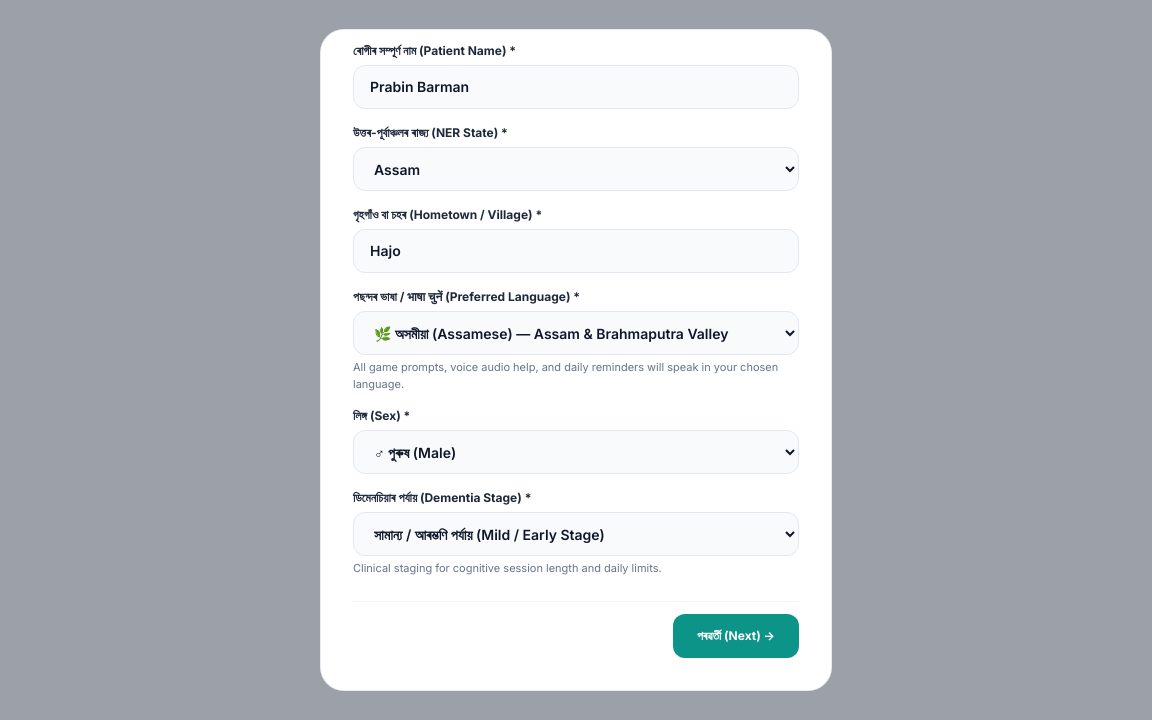
Test: Back Navigation & Visual Consistency Audit Tests › 2. PatientOnboardingModal Step 1 Back & Multi-Step Data Retention › Step 2 allows going back to Step 1 without losing entered patient data
(page scrolled)
Expected: the field labelled "ৰোগীৰ সম্পূৰ্ণ নাম (Patient Name) *" holds "Prabin Barman", [353,65,799,109]
// Go to Step 2
Step 1. Click the button "পৰৱৰ্তী (Next) →" → {"x": 736, "y": 636}, box [673,614,799,658]
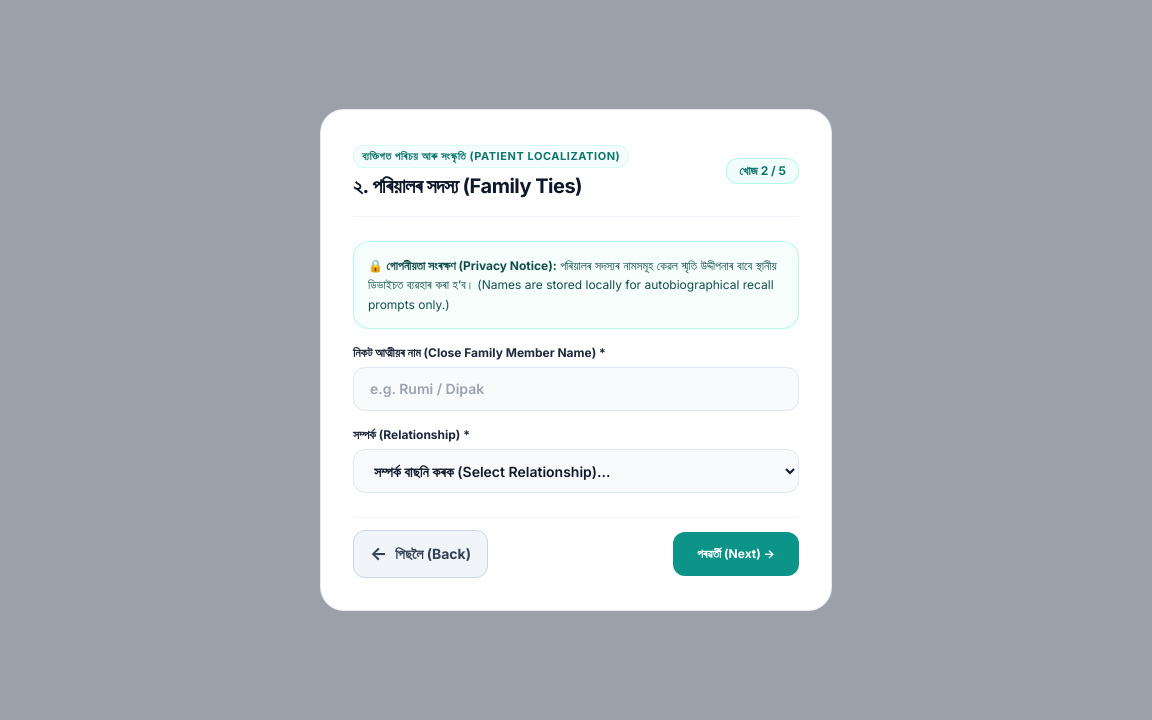
Expected: the heading "২. পৰিয়ালৰ সদস্য (Family Ties)" is shown, [353,174,582,198]
// Enter Step 2 family member
Step 2. Type "Junali Barman" into the field labelled "নিকট আত্মীয়ৰ নাম (Close Family Member Name) *" → {"x": 576, "y": 389}, box [353,367,799,411]
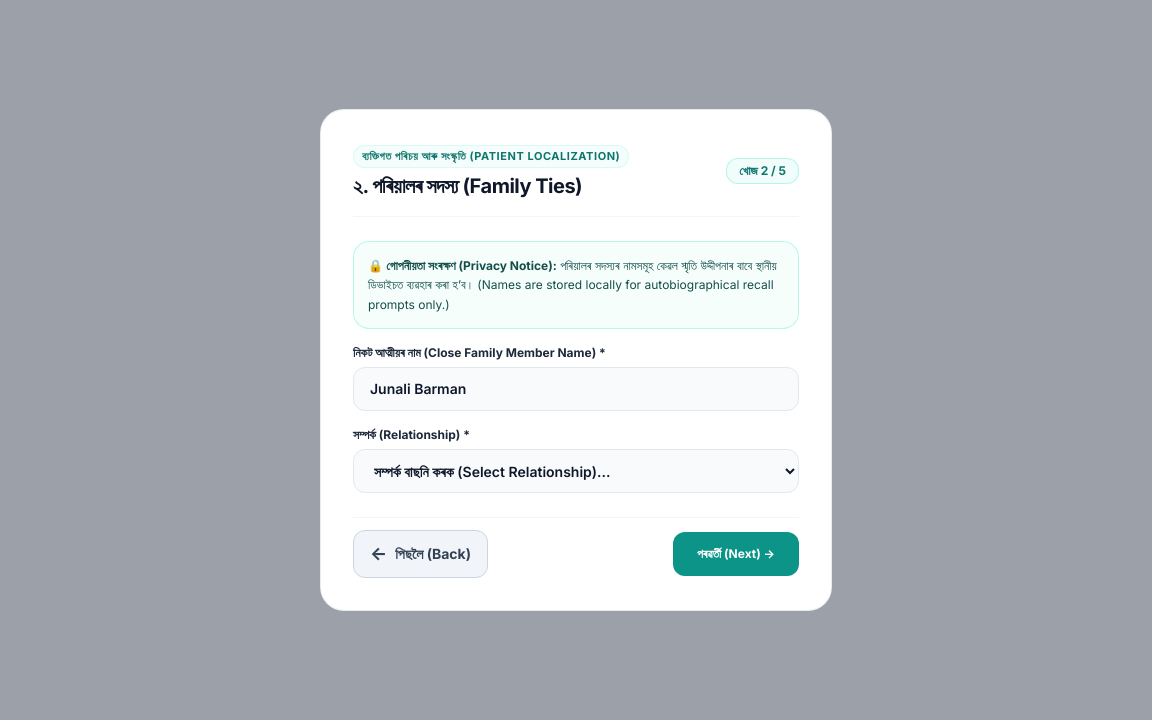
Step 3. Click the button "← পিছলৈ (Back)" → {"x": 420, "y": 554}, box [353,530,488,578]
(page scrolled)
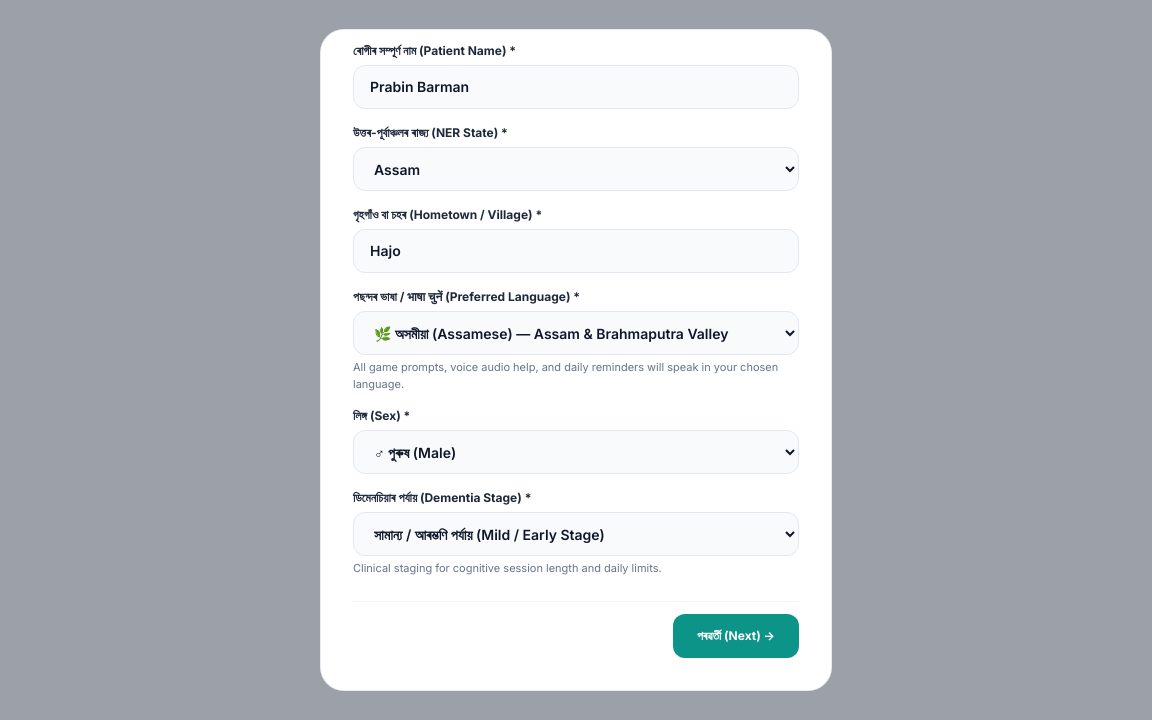
Expected: the field labelled "ৰোগীৰ সম্পূৰ্ণ নাম (Patient Name) *" holds "Prabin Barman", [353,65,799,109]
// Return to Step 2 to verify Junali Barman was retained
Step 4. Click the button "পৰৱৰ্তী (Next) →" → {"x": 736, "y": 636}, box [673,614,799,658]
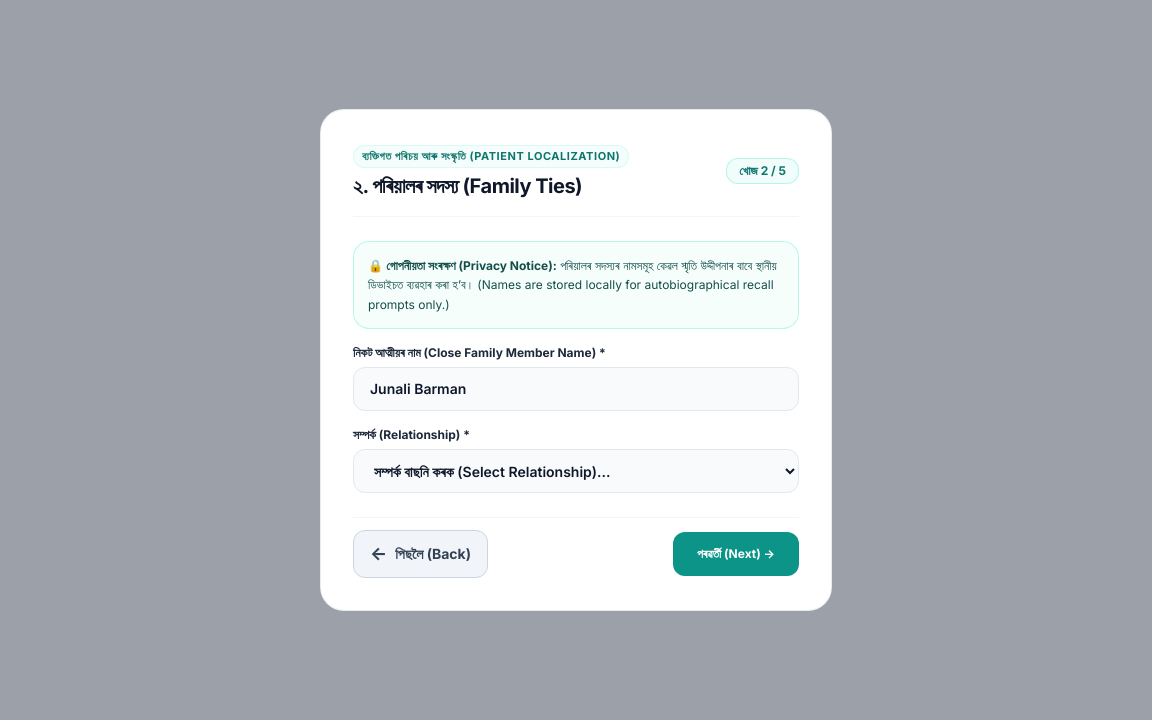
Expected: the heading "২. পৰিয়ালৰ সদস্য (Family Ties)" is shown, [353,174,582,198]
Expected: the field labelled "নিকট আত্মীয়ৰ নাম (Close Family Member Name) *" holds "Junali Barman", [353,367,799,411]
